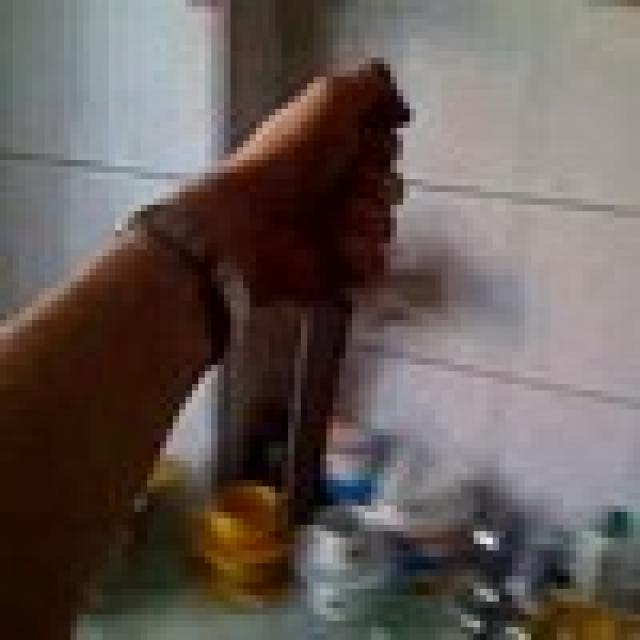Knife: (275, 77, 378, 544)
